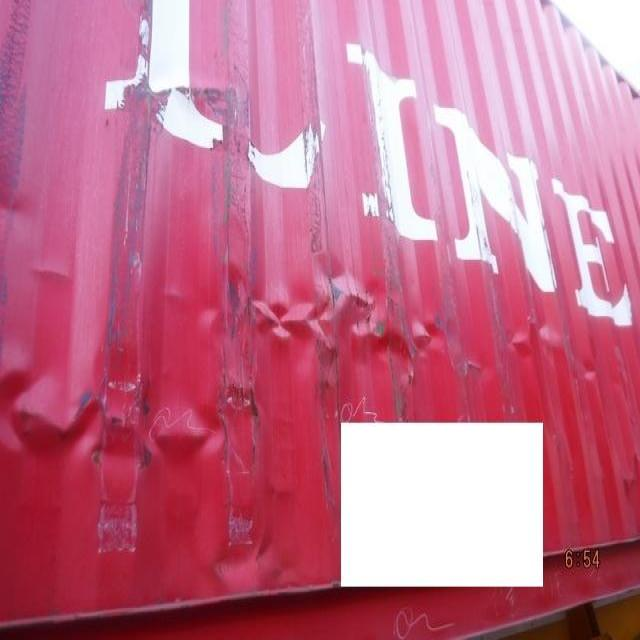dent: (2, 356, 295, 605), (161, 247, 483, 391), (485, 309, 608, 388), (2, 174, 79, 288)
